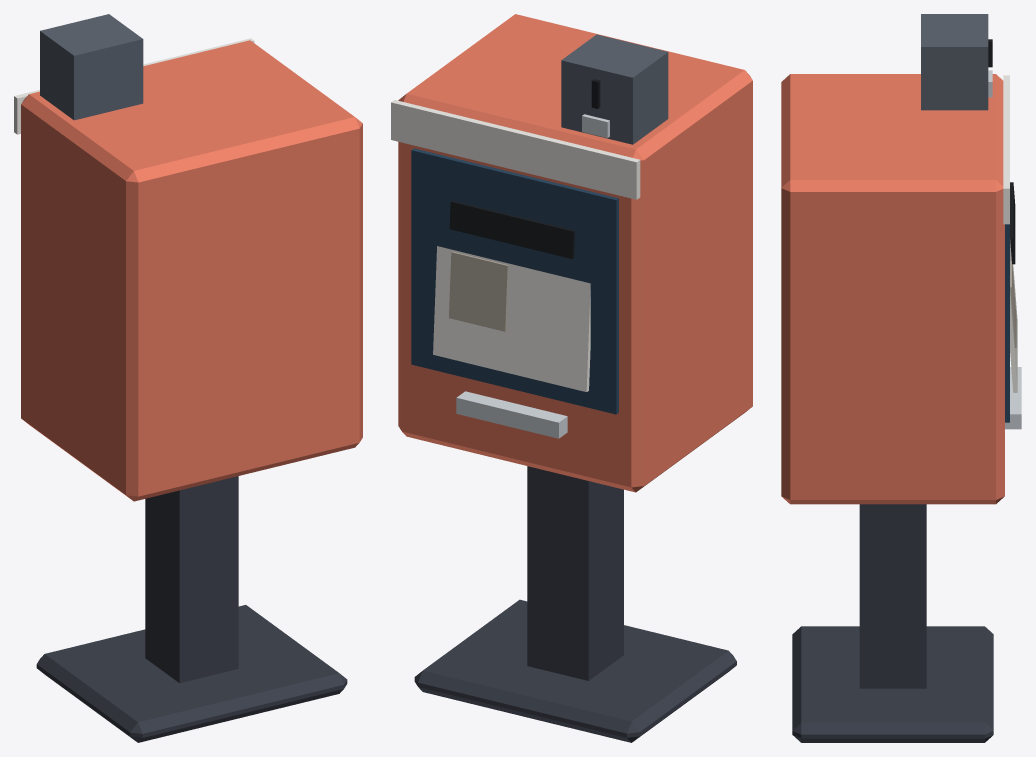
Rendered from newspaper_box.glb.
The picture shows the model from 3 angles, left to right: view 1: azimuth 30°, elevation 25°; view 2: azimuth 150°, elevation 25°; view 3: azimuth 270°, elevation 25°; orthographic projection. The views are drawn at different scales.
Visible parts, largest first — view 1: newspaper_box; view 2: newspaper_box; view 3: newspaper_box.
Part boxes in pixels (x1,y1,x2,y2): newspaper_box: [14, 14, 362, 742]; newspaper_box: [391, 14, 752, 742]; newspaper_box: [781, 14, 1021, 742].
Size of the model in its own units: 0.48 by 1.24 by 0.43.
